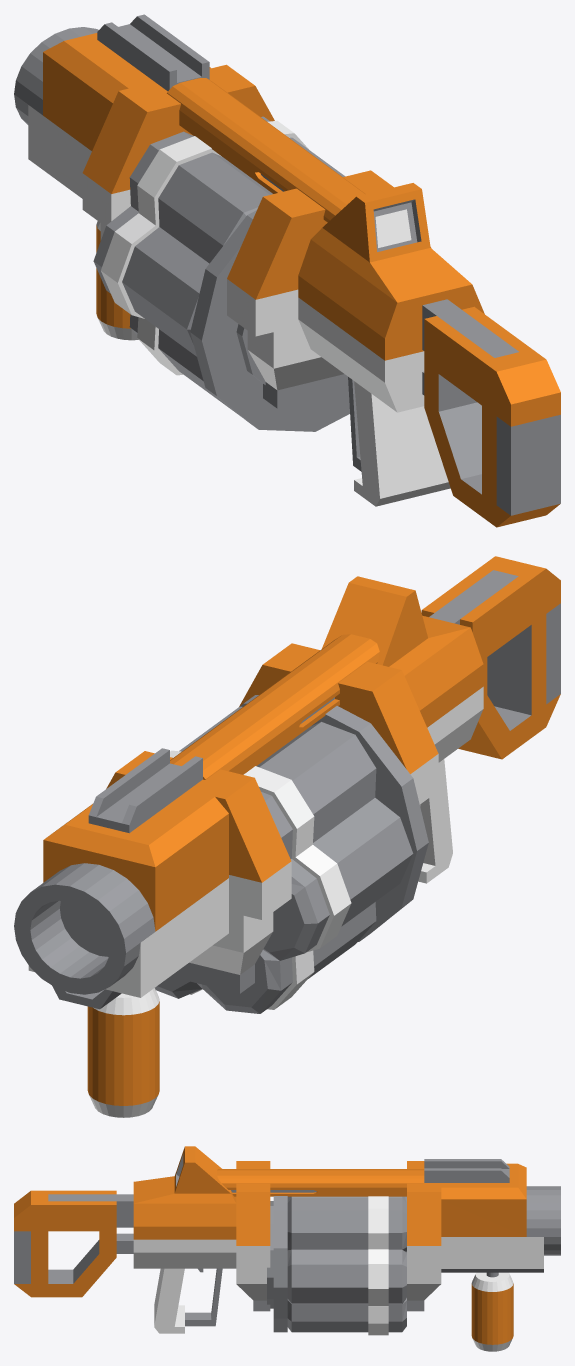
Rendered from launcher.dae.
The picture shows the model from 3 angles, top to bottom: view 1: azimuth 30°, elevation 25°; view 2: azimuth 150°, elevation 25°; view 3: azimuth 270°, elevation 25°; orthographic projection. The views are drawn at different scales.
Visible parts, largest first — view 1: mergedBlocks; view 2: mergedBlocks; view 3: mergedBlocks.
Part boxes in pixels (x1=…): mergedBlocks: x1=14, y1=14, x2=560, y2=527; mergedBlocks: x1=14, y1=556, x2=560, y2=1117; mergedBlocks: x1=14, y1=1146, x2=560, y2=1351.
Size of the model in its own units: 0.9423 by 3.2 by 1.23.
